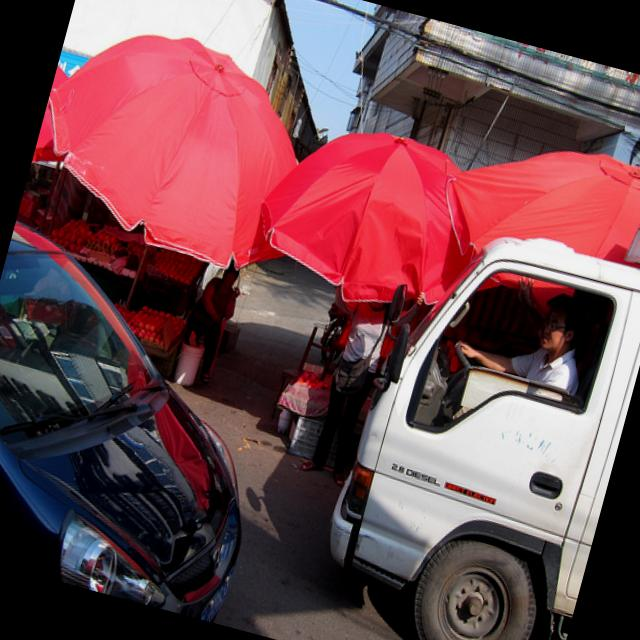Vehicle: (300, 157, 640, 640), (0, 212, 313, 625), (313, 300, 354, 365)
